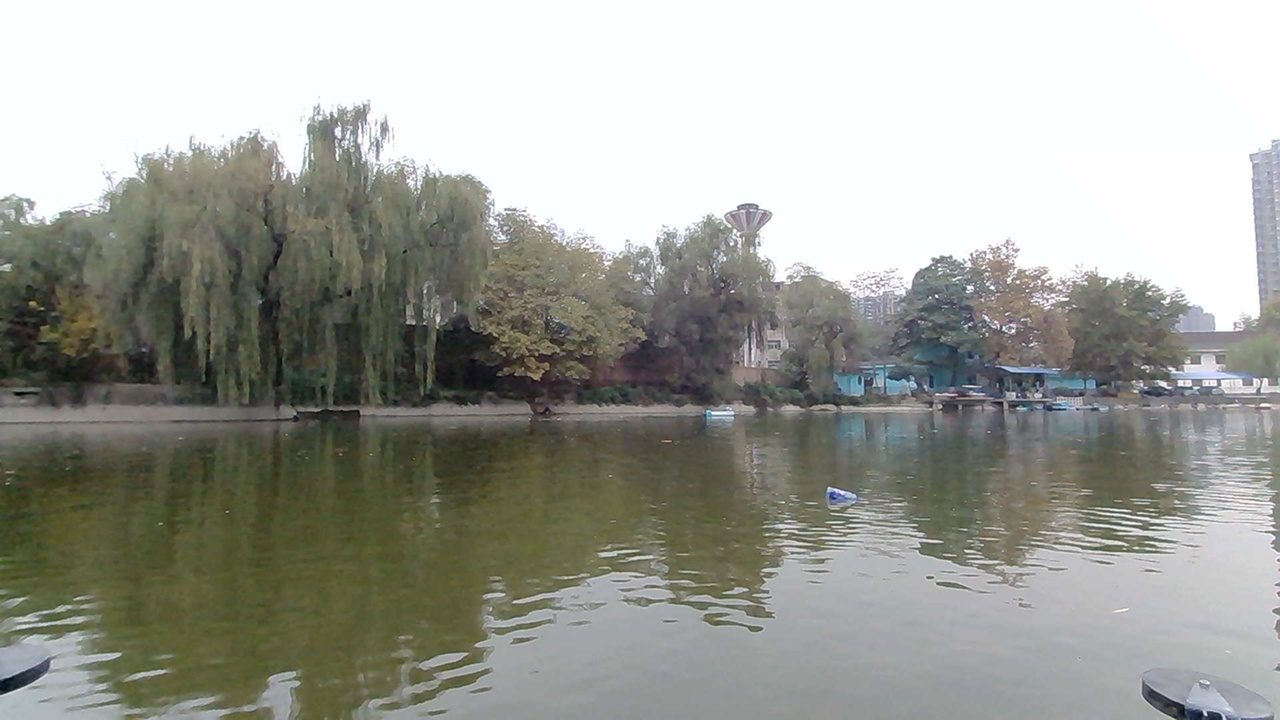bottle: (821, 482, 866, 516)
